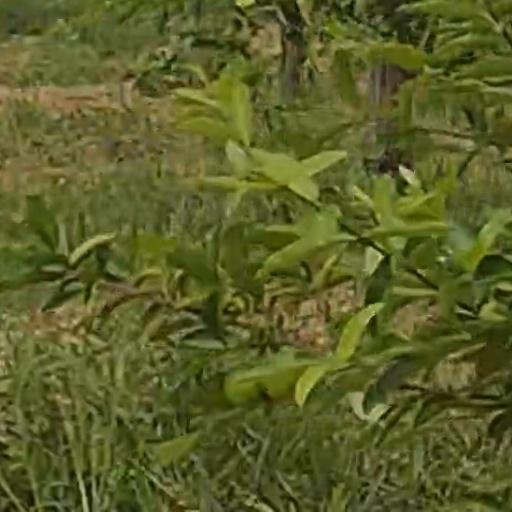acerola_verde: (224, 372, 260, 407), (263, 368, 298, 395)
